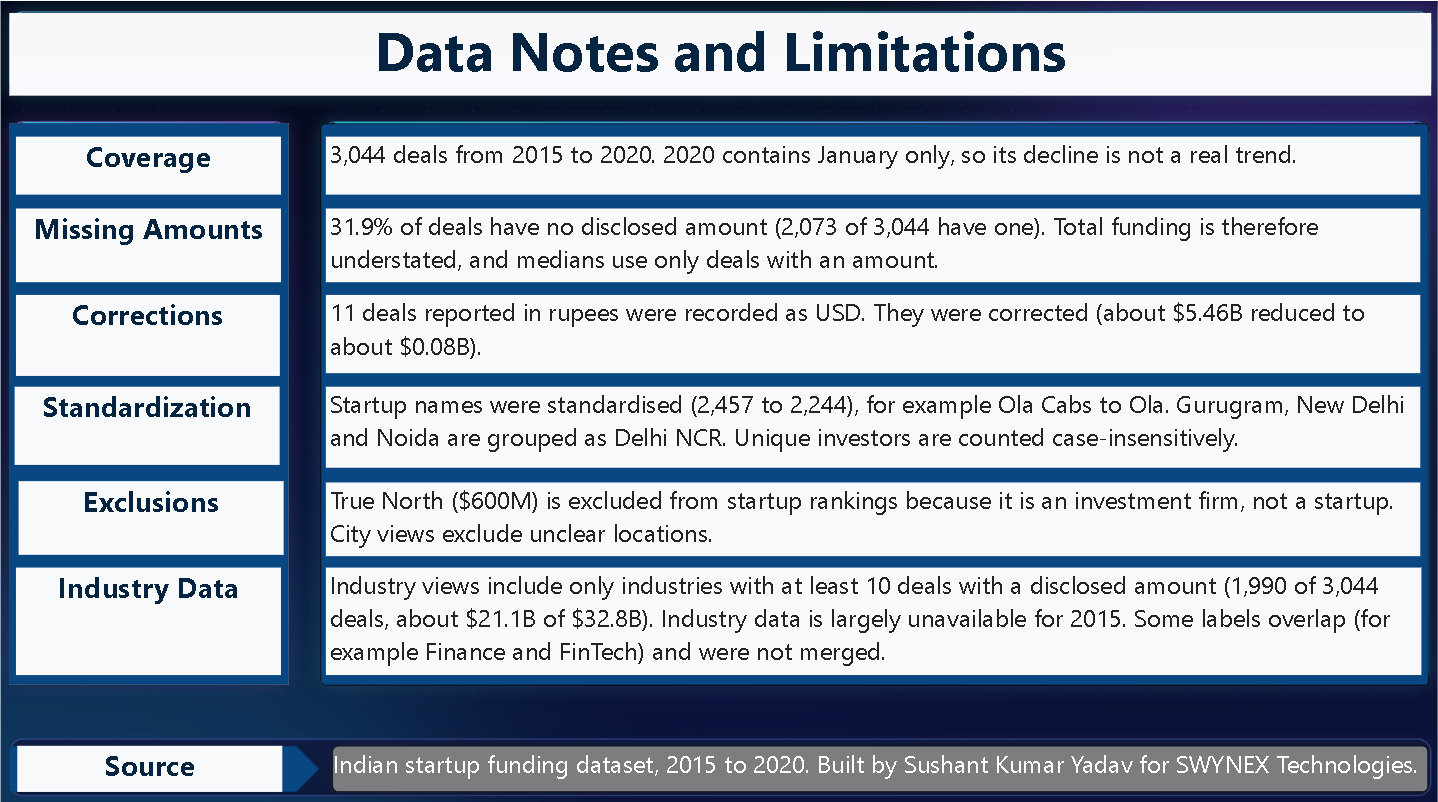

Layout of this report page (visuals, bound fields, positions):
{"tool":"powerbi","page":{"name":"Data Notes","canvas":[1920,1080],"ordinal":3},"visuals":[{"type":"shape","box":[428.3,163.5,1481.4,751.4],"z":500},{"type":"shape","box":[11.6,995.4,414.4,62],"z":1000},{"type":"shape","box":[12.4,163.5,373.2,750],"z":2000},{"type":"textbox","box":[21.3,182,354.4,77.5],"z":3000},{"type":"textbox","box":[21.3,276.9,354.4,98.8],"z":4000},{"type":"textbox","box":[21.6,392.9,352.4,108.4],"z":5000},{"type":"textbox","box":[24,642,354.4,98.8],"z":6000},{"type":"textbox","box":[435.7,182,1462.1,77.5],"z":7000},{"type":"textbox","box":[435.7,393.1,1462.1,104.6],"z":8000},{"type":"textbox","box":[435.7,642.9,1462.1,98.8],"z":9000},{"type":"textbox","box":[435.7,276.9,1462.1,98.8],"z":10000},{"type":"textbox","box":[435.7,515.1,1462.1,108.4],"z":11000},{"type":"textbox","box":[435.7,757.2,1464,143.3],"z":12000},{"type":"textbox","box":[443.5,996,1464,62],"z":13000},{"type":"textbox","box":[22,757.2,354.4,143.3],"z":14000},{"type":"textbox","box":[23.2,995.4,354.4,62],"z":15000},{"type":"textbox","box":[11.6,15.5,1899.7,110.4],"z":16000},{"type":"textbox","box":[19.6,514.8,354.4,104.6],"z":17000}]}

Visuals, with their boxes in screenshot pixels (x1, y1, x2, y2), scaled from the page's 1920x1080 canvas onto the 1438x802 screenshot:
shape: {"x1": 321, "y1": 121, "x2": 1430, "y2": 679}
shape: {"x1": 9, "y1": 739, "x2": 319, "y2": 785}
shape: {"x1": 9, "y1": 121, "x2": 289, "y2": 678}
textbox: {"x1": 16, "y1": 135, "x2": 281, "y2": 193}
textbox: {"x1": 16, "y1": 206, "x2": 281, "y2": 279}
textbox: {"x1": 16, "y1": 292, "x2": 280, "y2": 372}
textbox: {"x1": 18, "y1": 477, "x2": 283, "y2": 550}
textbox: {"x1": 326, "y1": 135, "x2": 1421, "y2": 193}
textbox: {"x1": 326, "y1": 292, "x2": 1421, "y2": 370}
textbox: {"x1": 326, "y1": 477, "x2": 1421, "y2": 551}
textbox: {"x1": 326, "y1": 206, "x2": 1421, "y2": 279}
textbox: {"x1": 326, "y1": 383, "x2": 1421, "y2": 463}
textbox: {"x1": 326, "y1": 562, "x2": 1423, "y2": 669}
textbox: {"x1": 332, "y1": 740, "x2": 1429, "y2": 786}
textbox: {"x1": 16, "y1": 562, "x2": 282, "y2": 669}
textbox: {"x1": 17, "y1": 739, "x2": 283, "y2": 785}
textbox: {"x1": 9, "y1": 12, "x2": 1431, "y2": 93}
textbox: {"x1": 15, "y1": 382, "x2": 280, "y2": 460}
